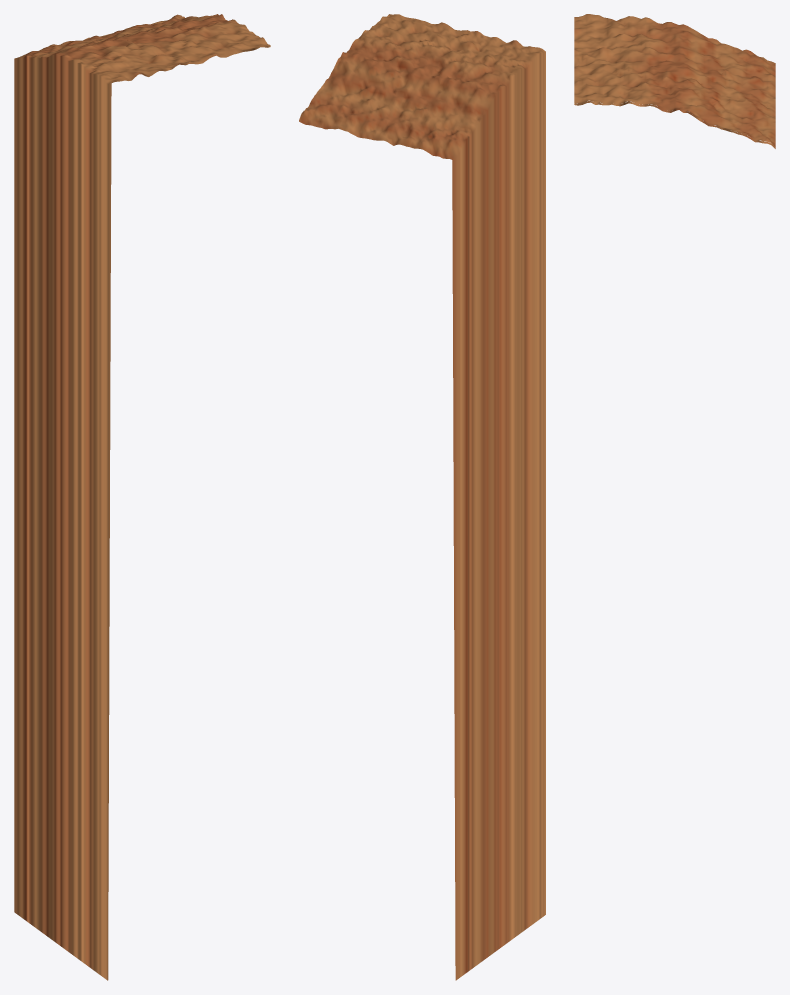
File: terrain-119.glb
The picture shows the model from 3 angles, left to right: view 1: azimuth 30°, elevation 25°; view 2: azimuth 150°, elevation 25°; view 3: azimuth 270°, elevation 25°; orthographic projection. The views are drawn at different scales.
Visible parts, largest first — view 1: terrain-119; view 2: terrain-119; view 3: terrain-119.
Boxes of the visible parts, x1,y1,x2,y2 form: terrain-119: (14,14,270,980); terrain-119: (299,14,545,980); terrain-119: (574,14,775,148).
Size of the model in its own units: 384 by 2034 by 384.
